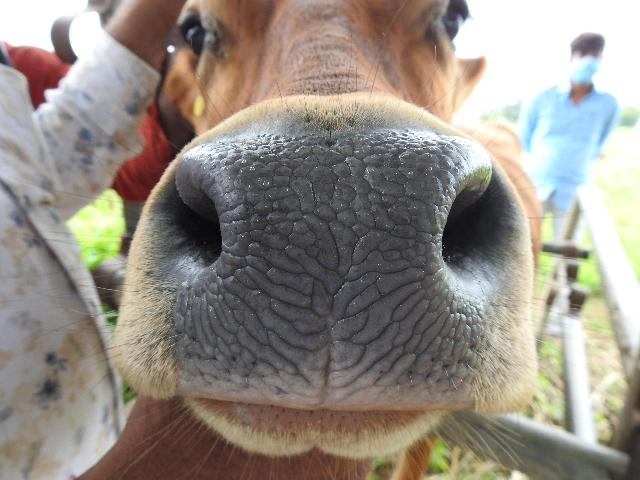Muzzle: (224, 148, 442, 388)
